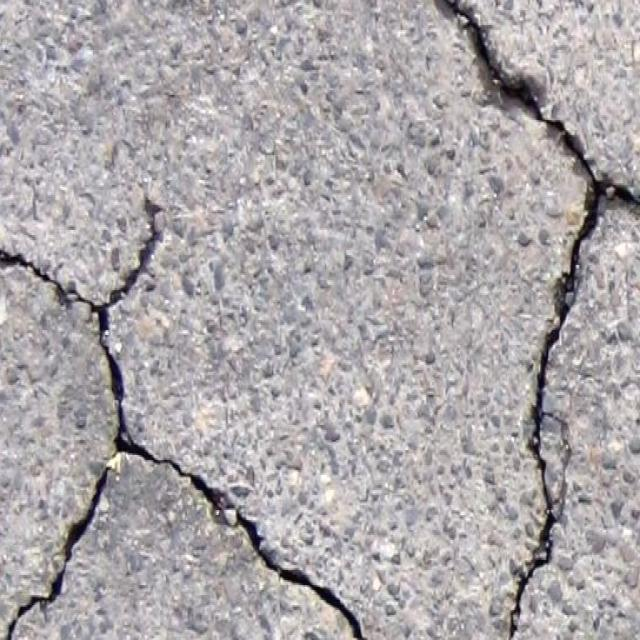crack: (432, 4, 640, 632), (112, 428, 368, 636), (1, 197, 161, 427), (5, 456, 111, 637)
